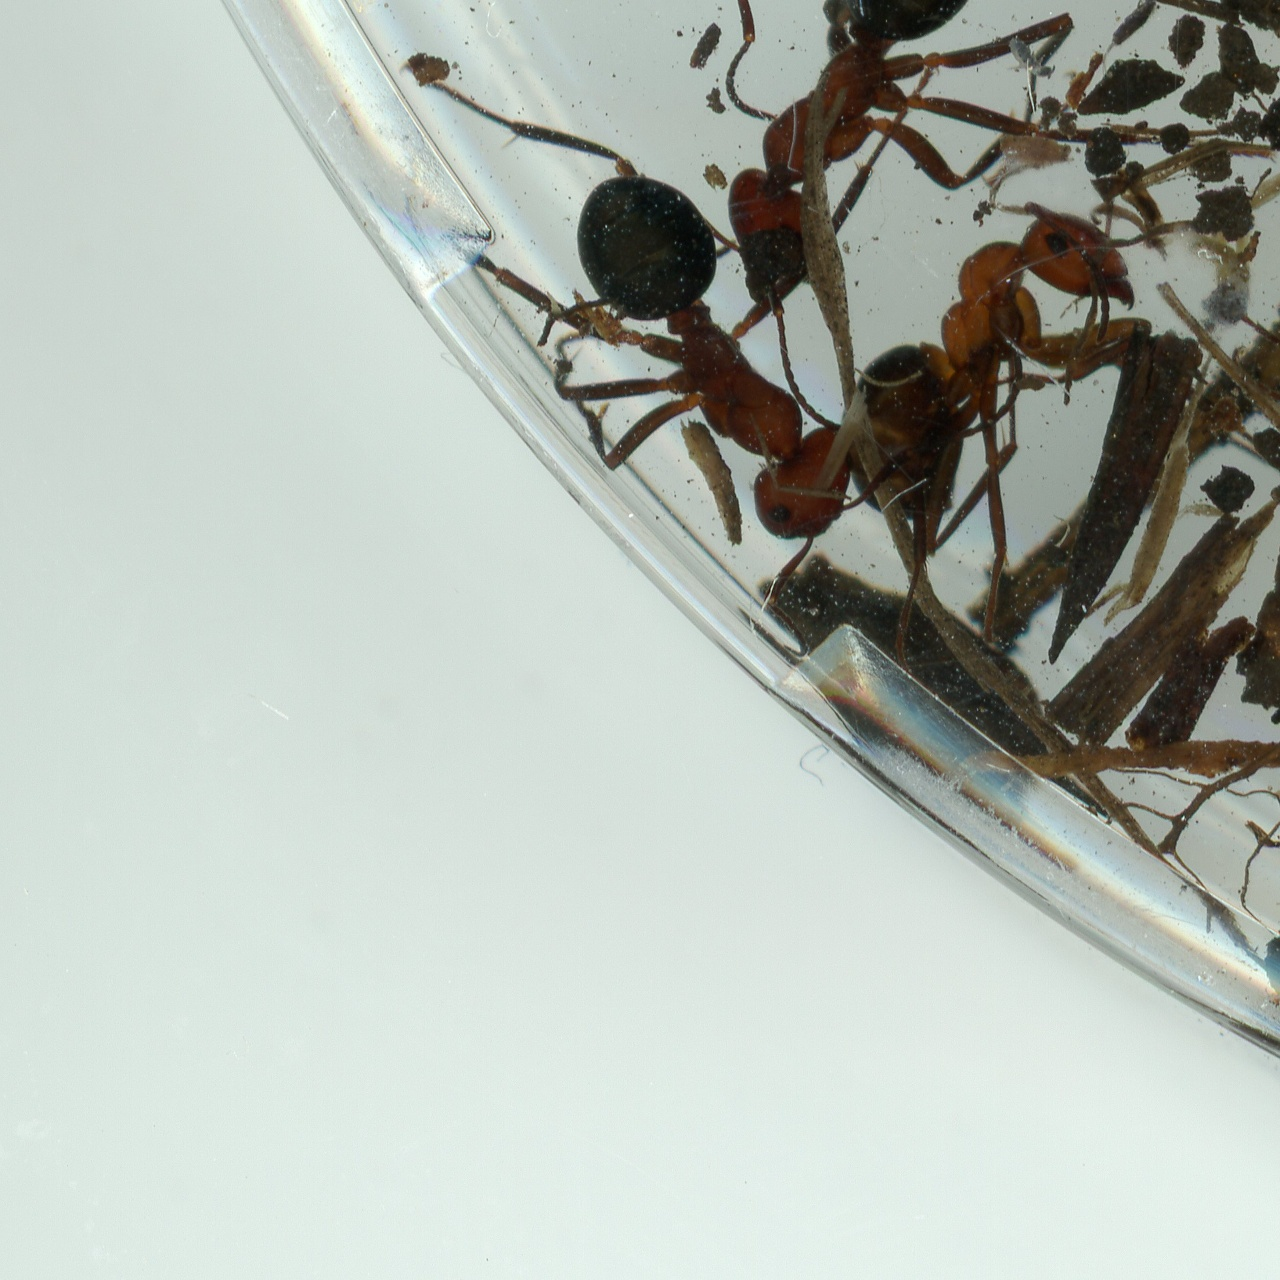arthropod: (407, 74, 907, 597), (644, 0, 1122, 470), (847, 199, 1156, 581), (578, 0, 1201, 143), (1218, 309, 1280, 553), (1097, 0, 1160, 75), (1006, 33, 1060, 86)
